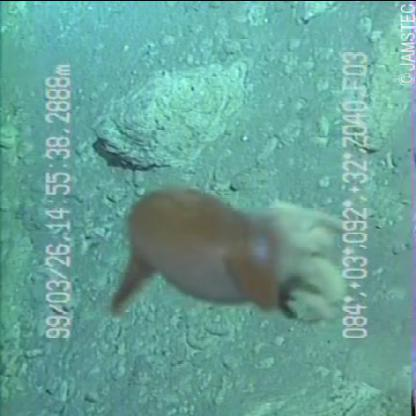Bio: (103, 176, 354, 328)
